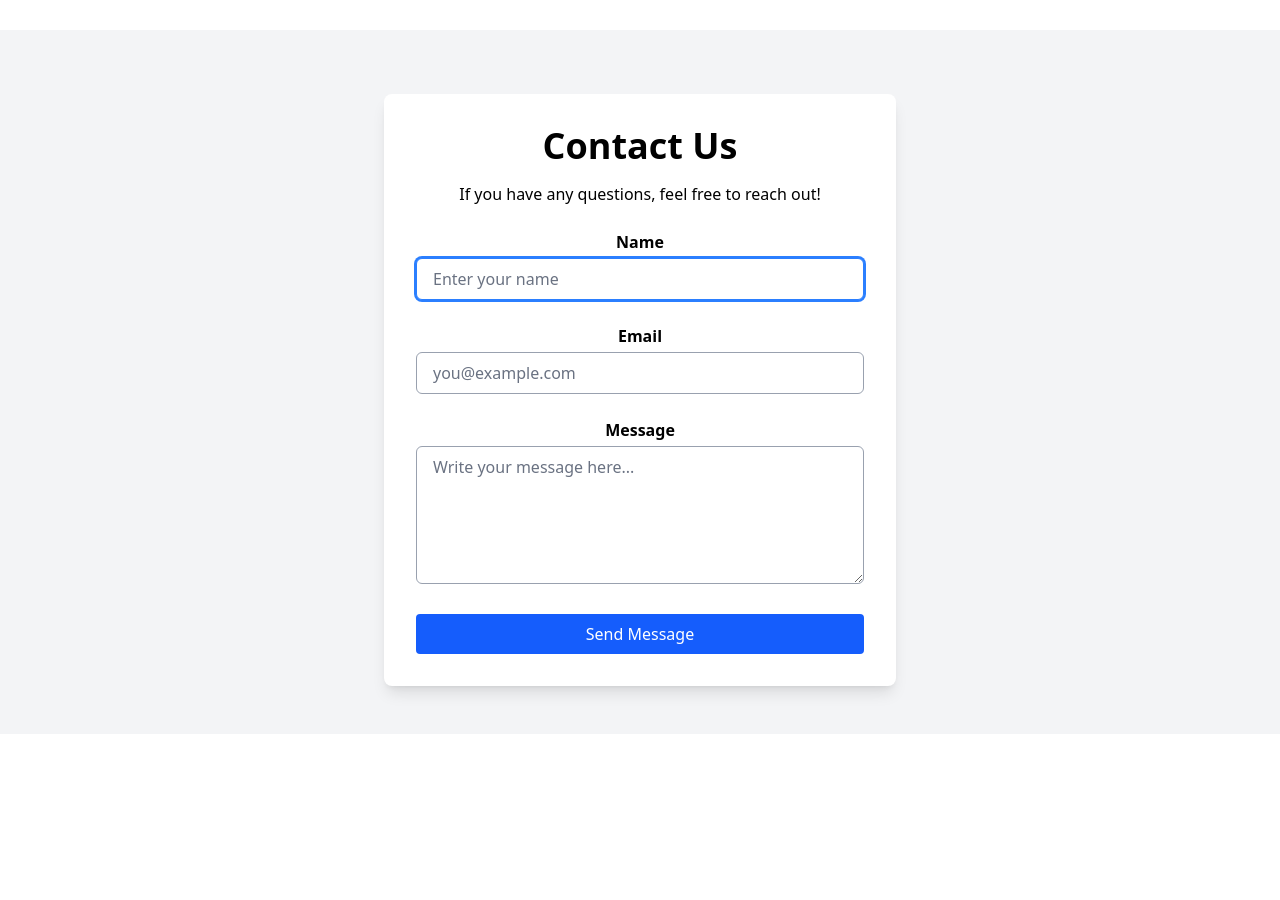
Test: ContactUs Component › clears error when input value changes
This screenshot has width=1280, height=900.
Click the button "Send Message" at (640, 634), box x1=416 y1=614 x2=864 y2=654
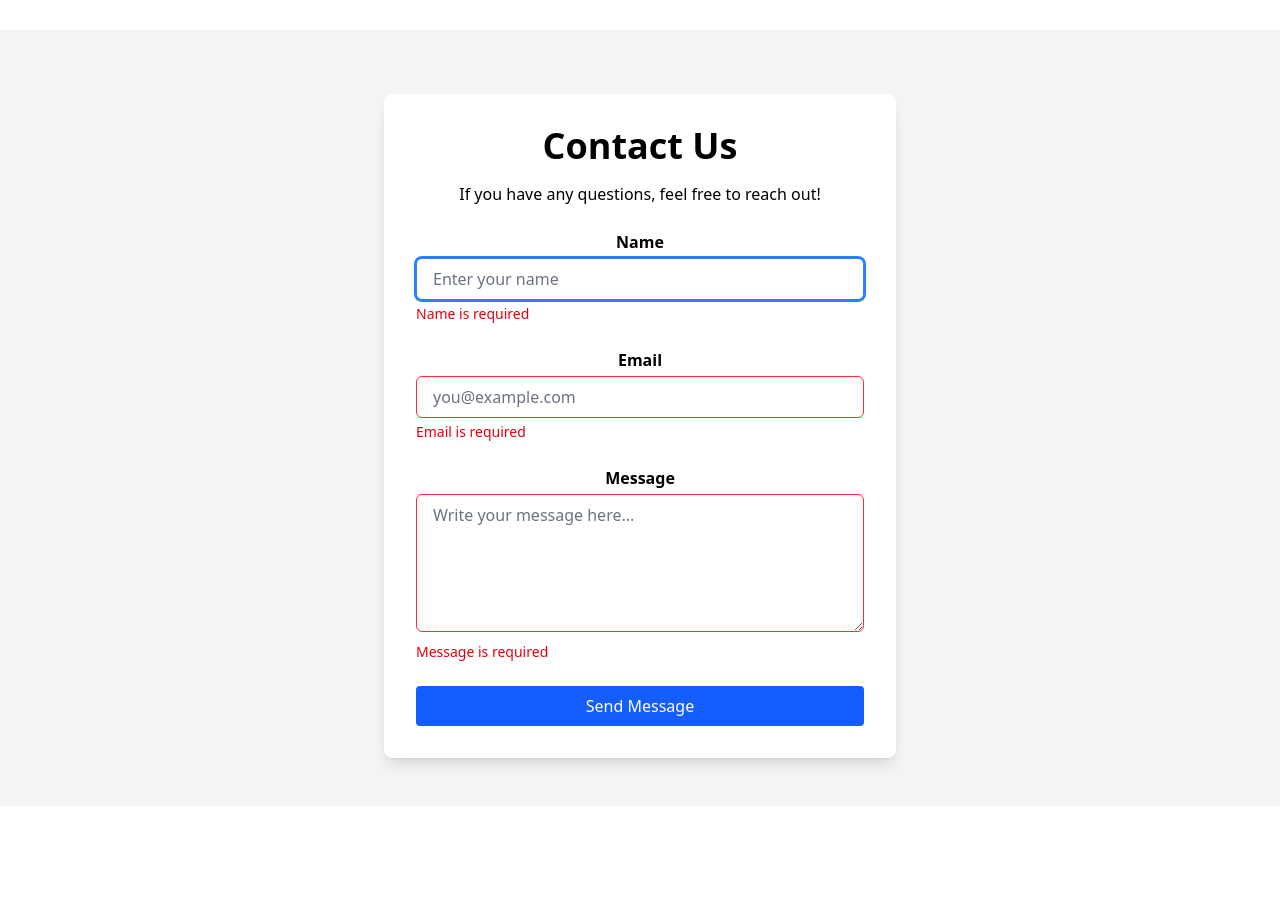
Check: the text "Name is required" is shown, box x1=416 y1=304 x2=529 y2=323
Type "John" into the field labelled "Name" at (640, 279), box x1=416 y1=258 x2=864 y2=300
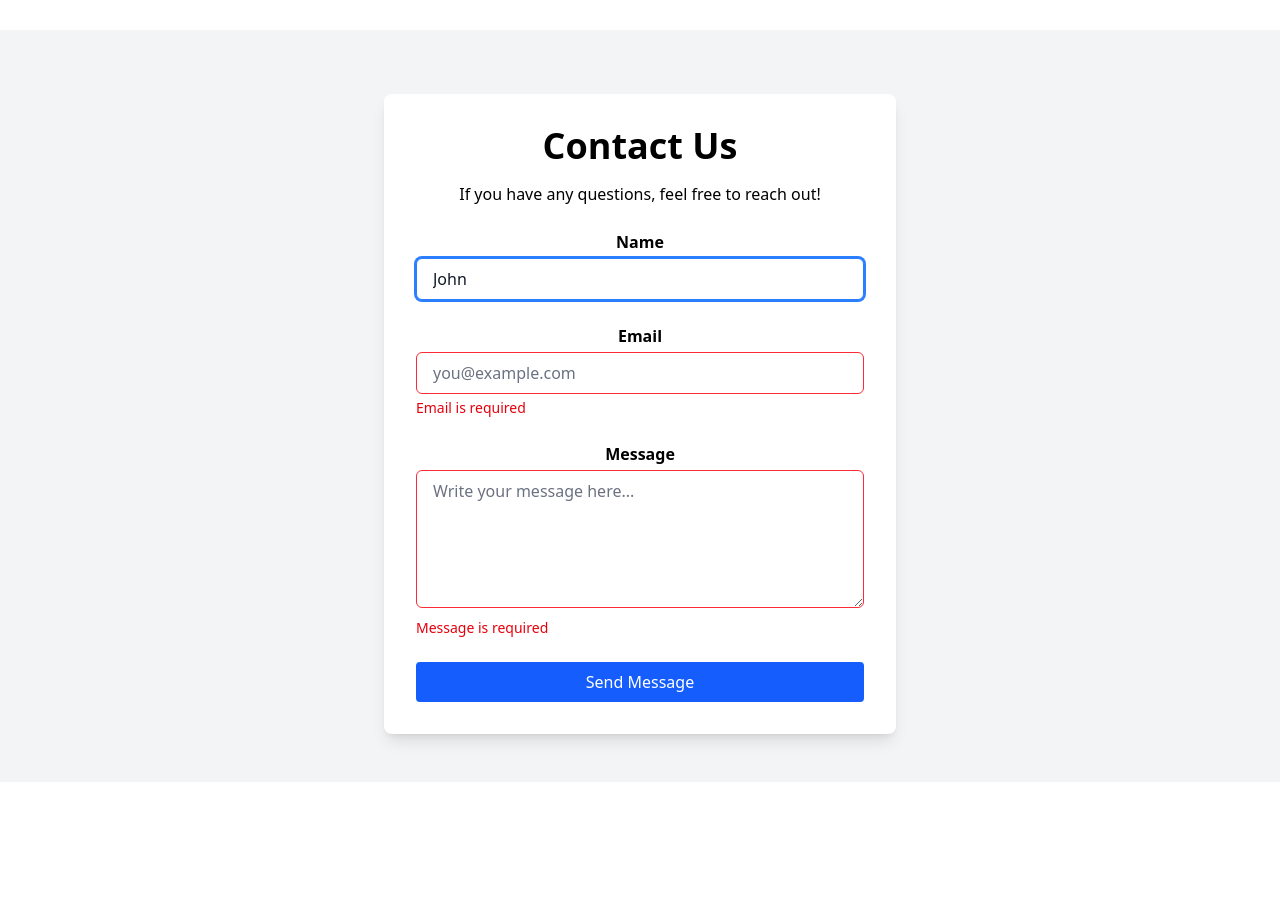
Check: the text "Name is required" is gone
